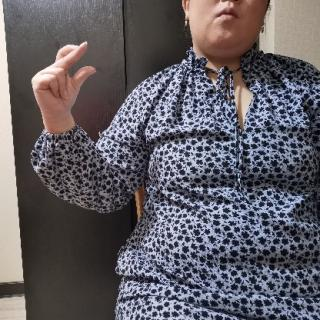DHELL: (31, 36, 104, 125)
